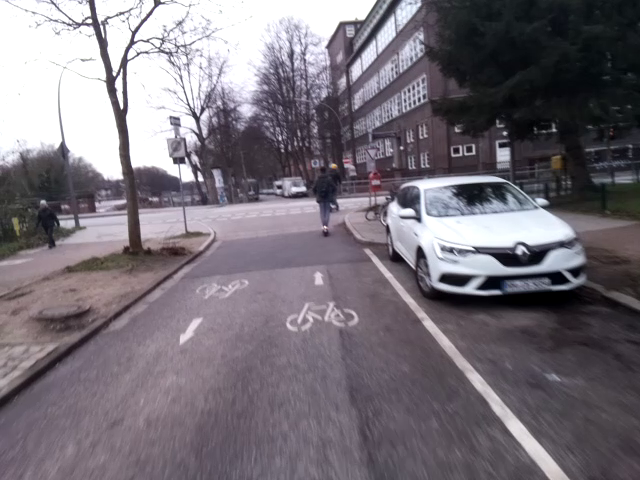car: (383, 172, 593, 308)
